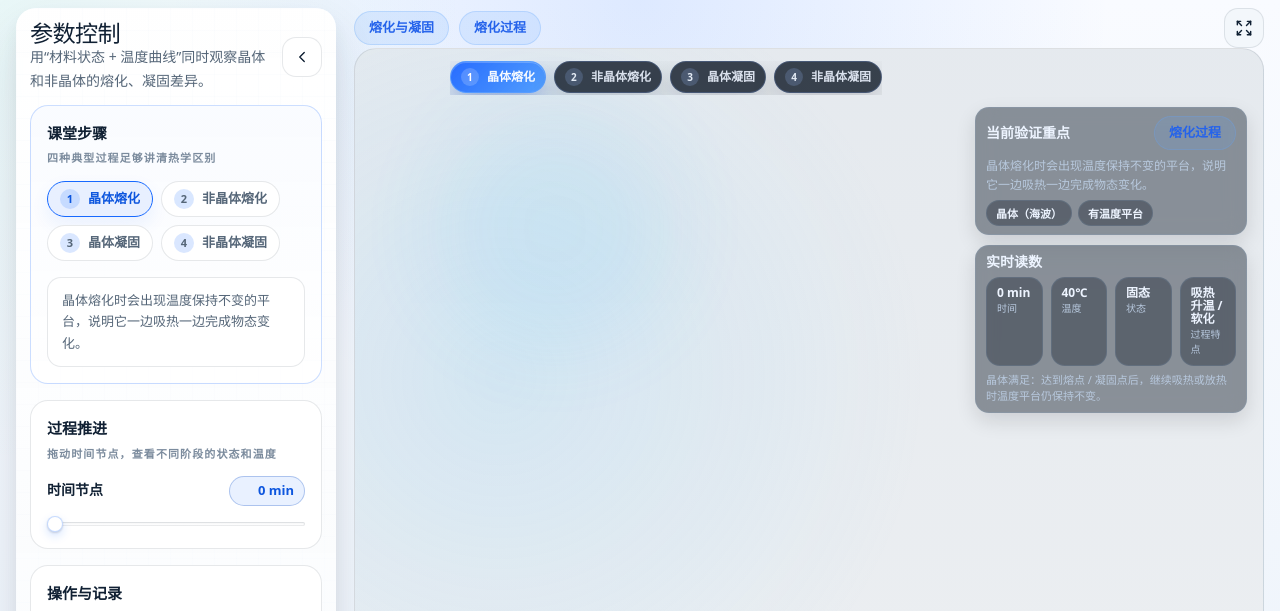
Scenario: MeltingFreezingLab › marks the amorphous-melting scene as having no platform
Click the button "2 非晶体熔化" below "四种典型过程足够讲清热学区别" at (220, 199), box left=161, top=181, right=280, bottom=217
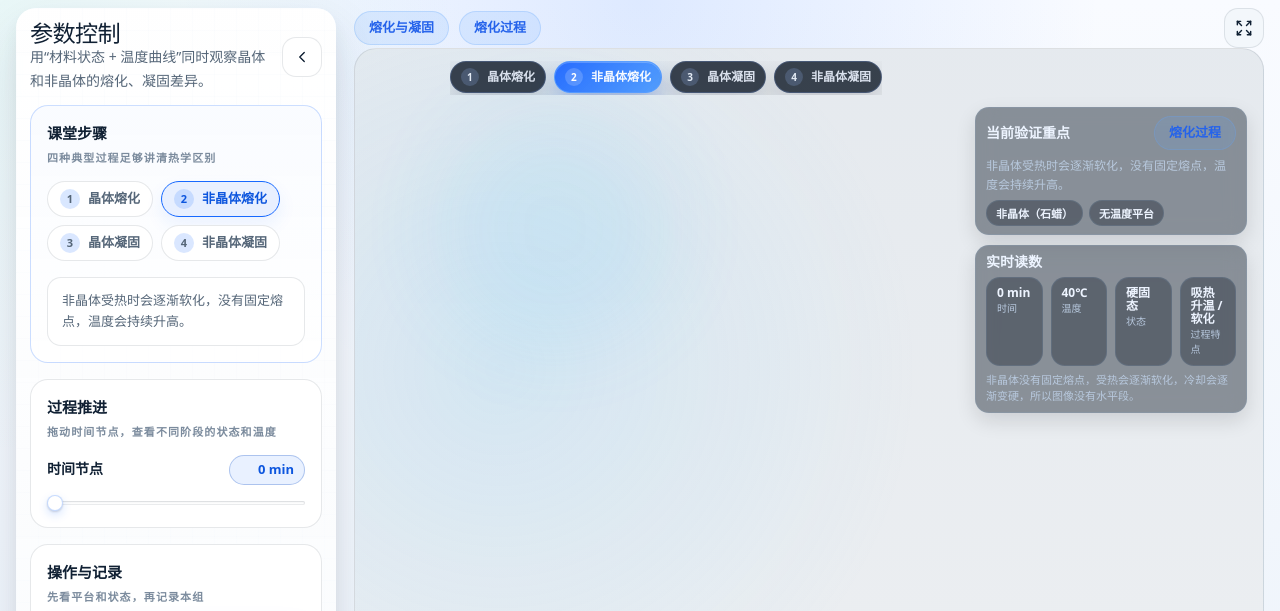
Check: the text "无温度平台" is shown, box left=1089, top=200, right=1164, bottom=226
